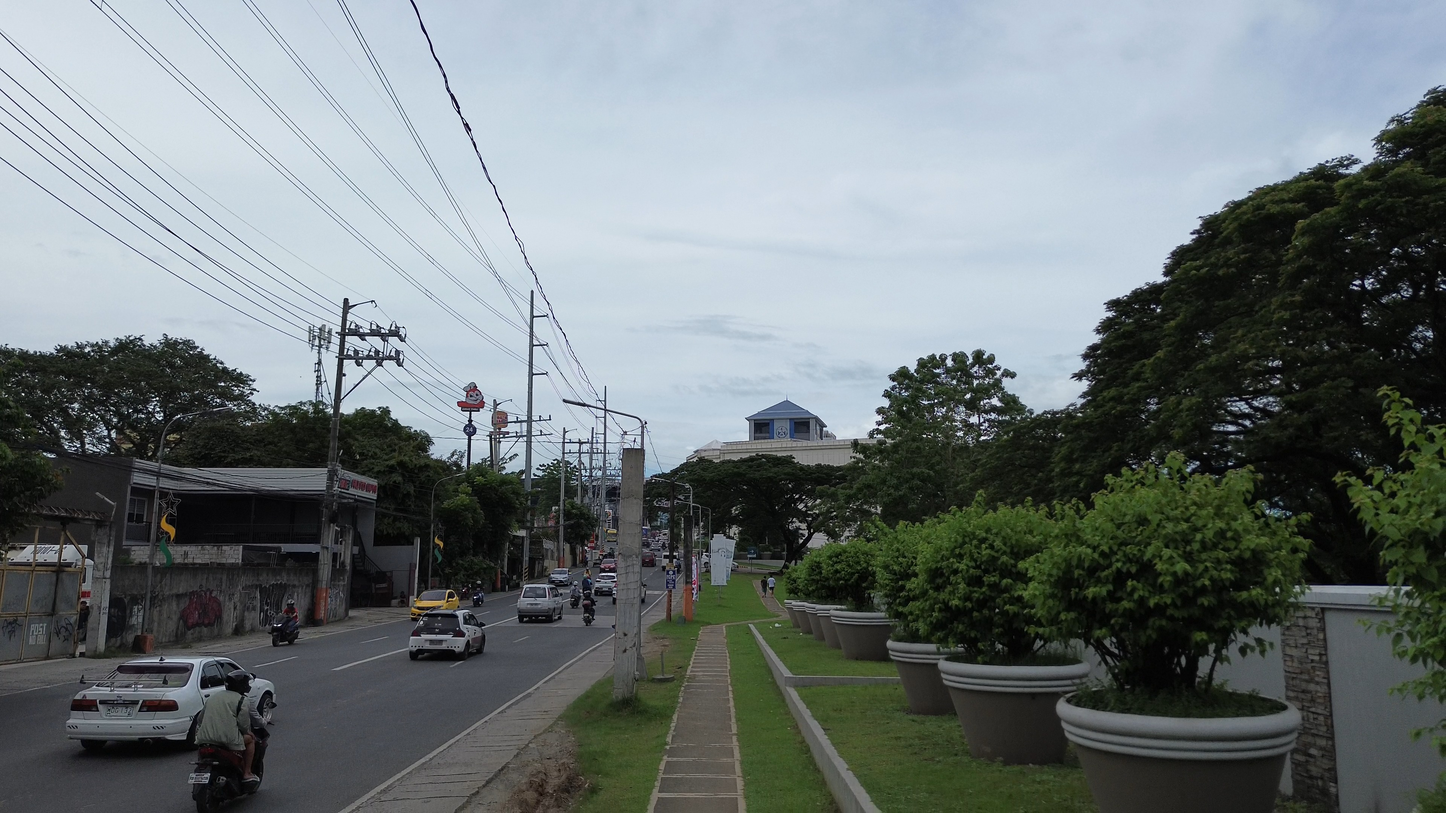car: (66, 656, 241, 750), (409, 609, 485, 660), (517, 584, 564, 622), (593, 572, 617, 596), (599, 557, 616, 573), (642, 550, 656, 567)
motorcycle: (189, 745, 260, 813), (270, 614, 299, 646), (581, 594, 595, 626), (570, 582, 582, 608), (471, 590, 484, 607)
vehicle: (410, 589, 459, 620), (548, 568, 571, 588), (581, 595, 595, 626), (569, 582, 582, 608), (472, 588, 484, 607)
